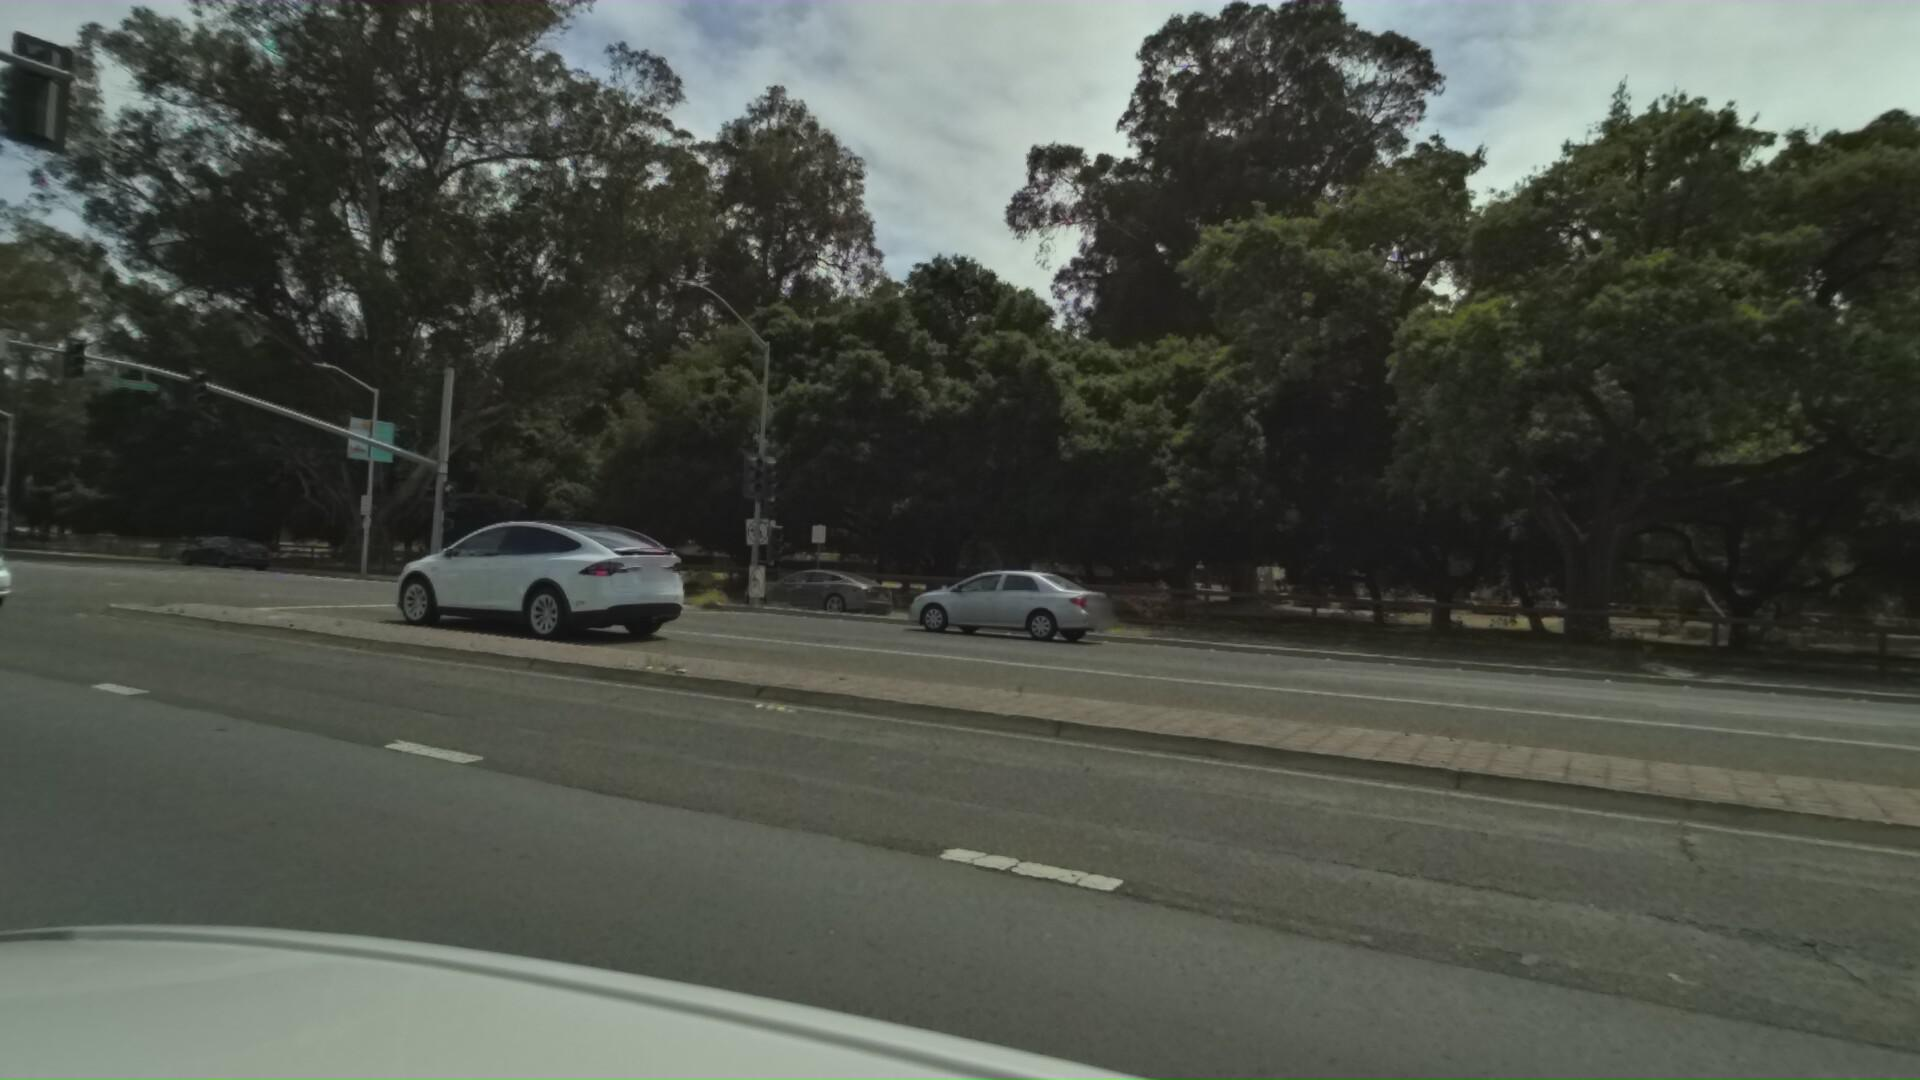car: (351, 512, 684, 654), (860, 558, 1109, 651), (713, 564, 873, 620), (0, 471, 46, 632), (169, 537, 269, 575)
